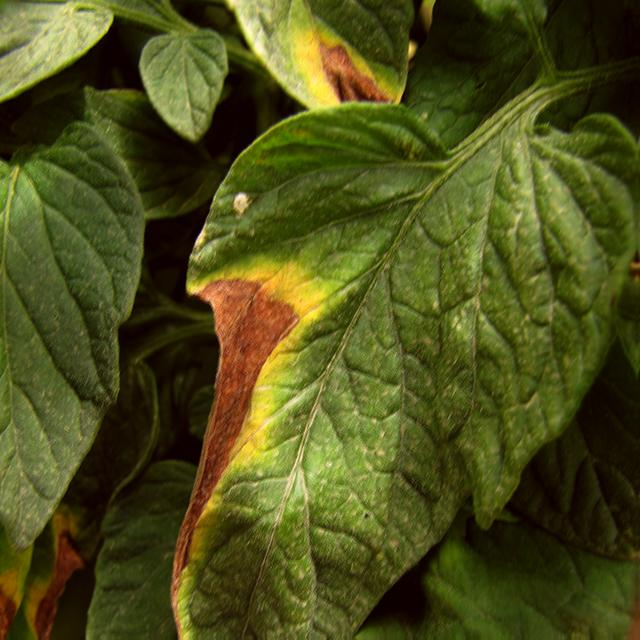Tomato leaf bacterial spot: (170, 89, 627, 640)
